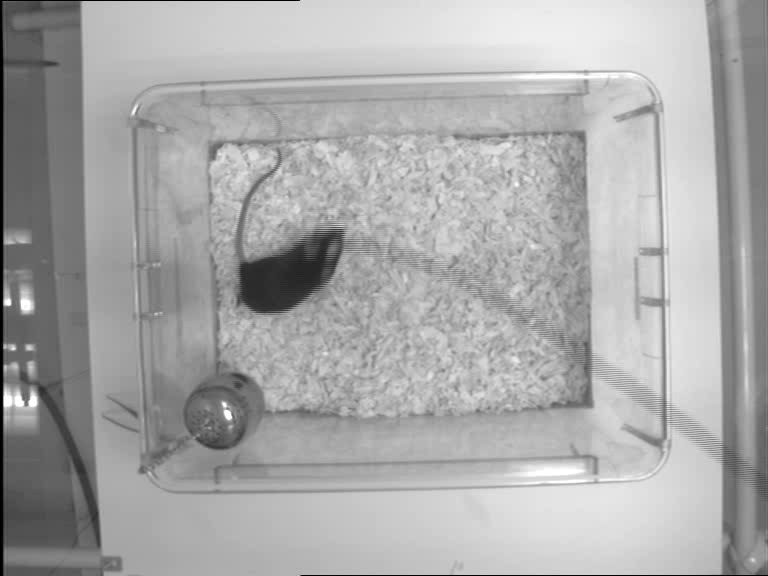mice: (234, 147, 347, 317)
